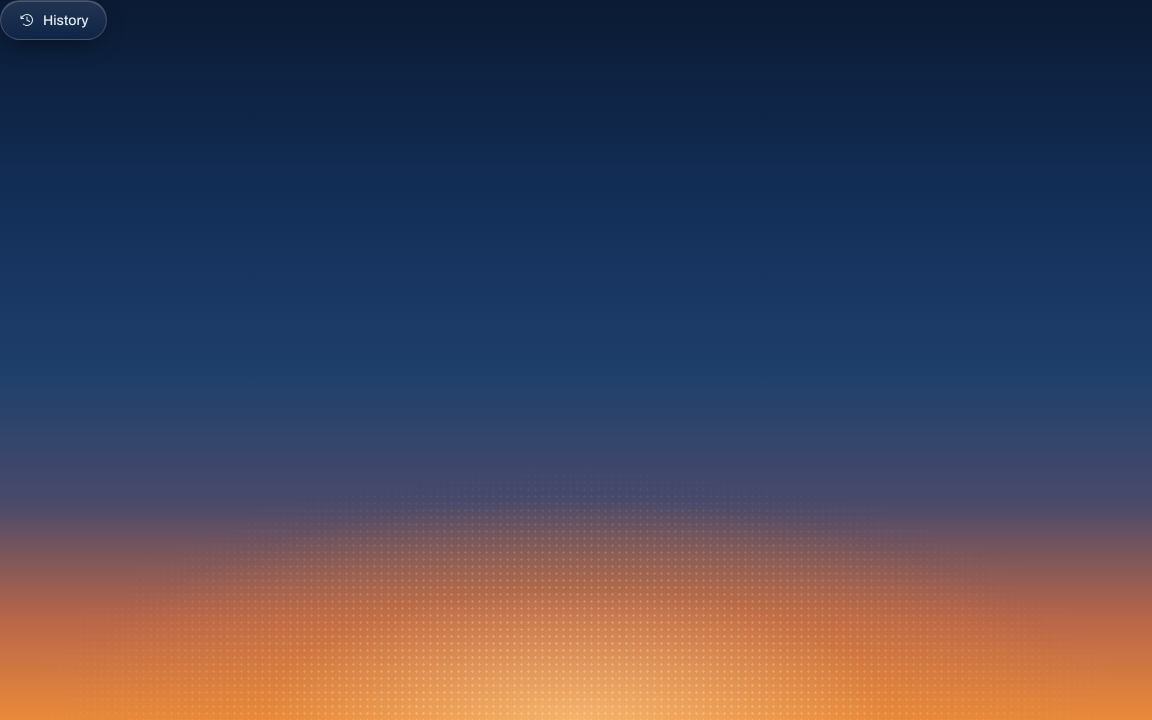
Test: HistoryButton › says so when there are no checkpoints, and while they load
The width and height of the screenshot is (1152, 720).
Later steps or results of the test are not shown.
Click the button "History" at (54, 20), box [0,0,108,40]
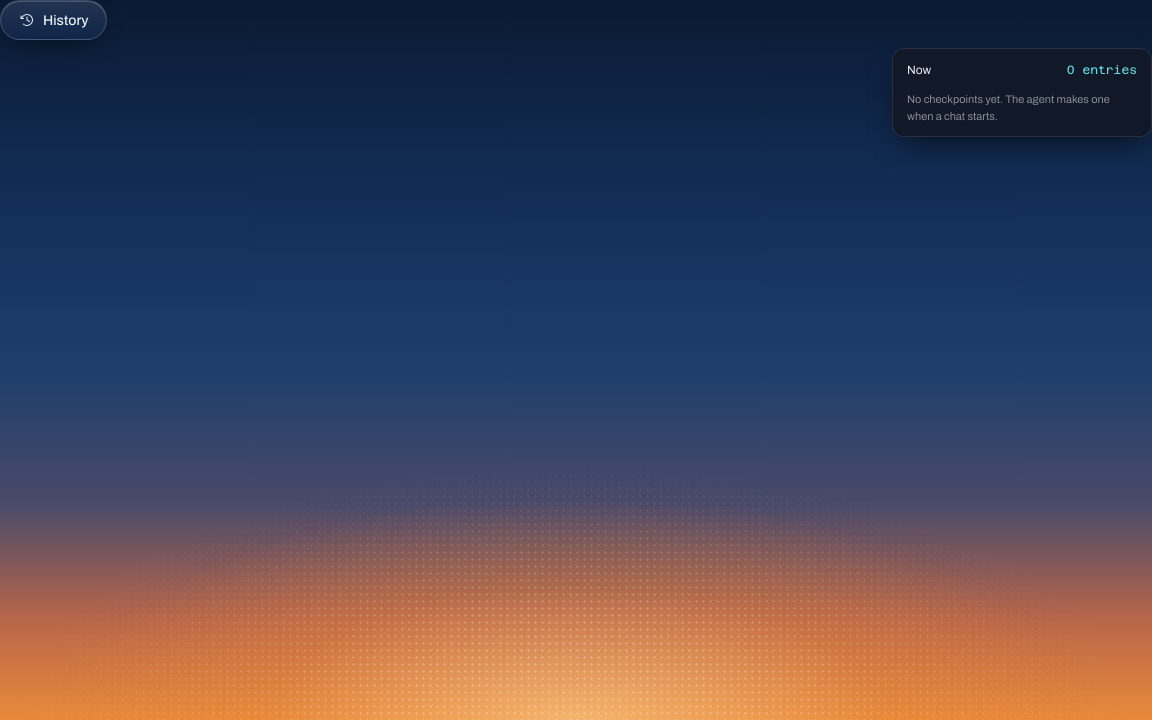
Now the text "No checkpoints yet. The agent makes one when a chat starts." is shown, box [907,93,1110,122]
